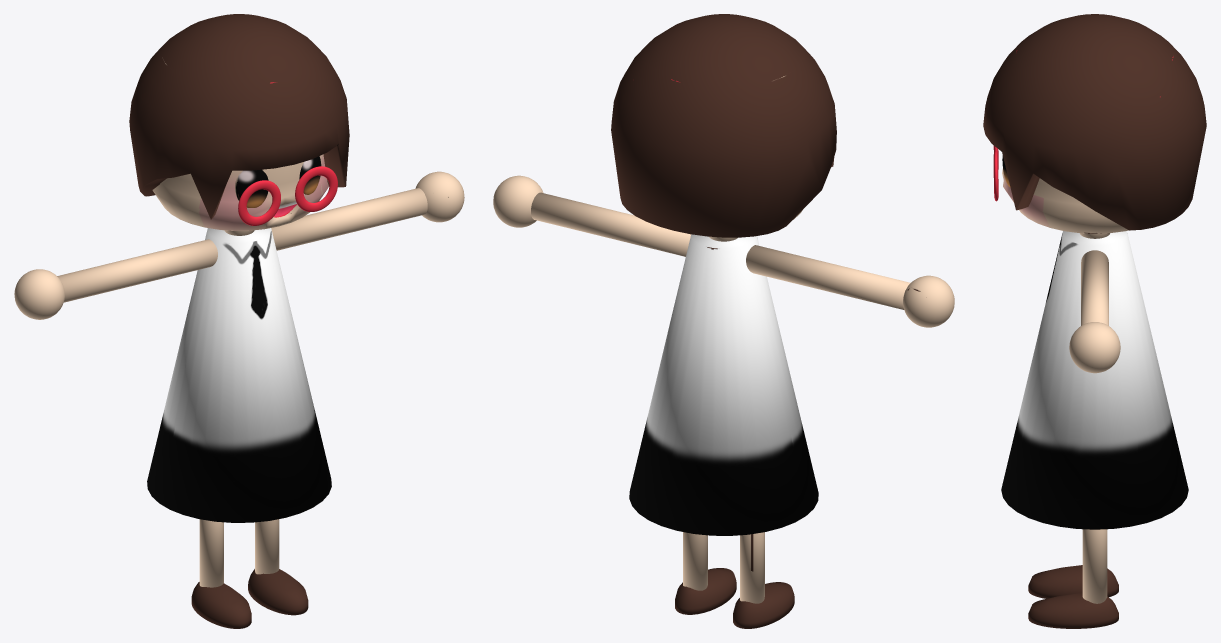
Rendered from teacher.fbx.
The picture shows the model from 3 angles, left to right: view 1: azimuth 30°, elevation 25°; view 2: azimuth 150°, elevation 25°; view 3: azimuth 270°, elevation 25°; orthographic projection. The views are drawn at different scales.
Parts seen in each view (by area): view 1: Cylinder; view 2: Cylinder; view 3: Cylinder.
Part boxes in pixels (bbox=[...]): Cylinder: bbox=[14, 14, 464, 628]; Cylinder: bbox=[493, 14, 954, 628]; Cylinder: bbox=[983, 14, 1206, 628].
Size of the model in its own units: 553 by 683 by 238.
Materials: 1 (1 with a texture image).
